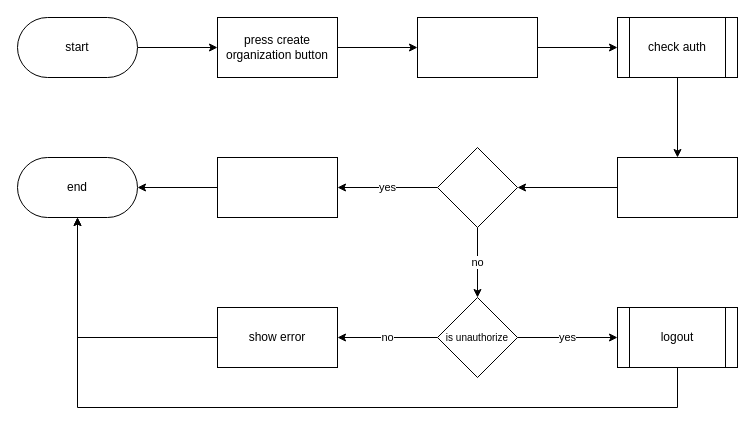
Some shapes in this 755 by 433 pixel diagram are drawn without their labels. Here are the shapes that lost their labels. From the top down, the box of each, then its label:
(416, 16, 538, 78): input organization detail
(216, 156, 338, 218): show organizations
(436, 146, 518, 228): success
(616, 156, 738, 218): use access token to create organization
